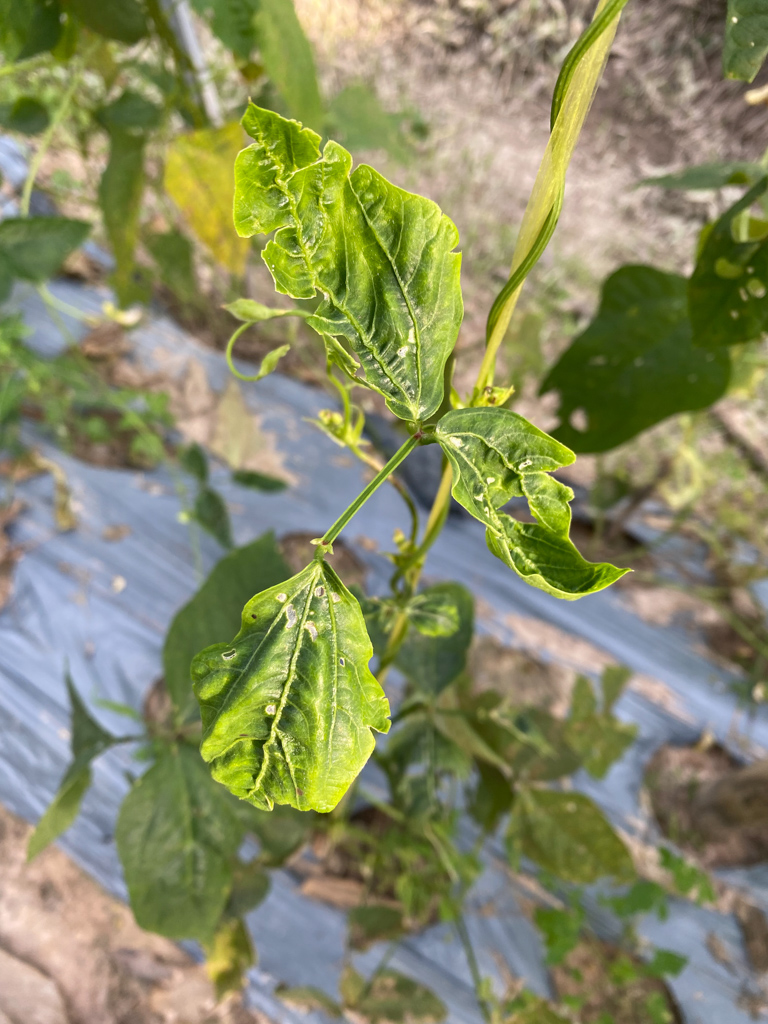Leaf Curl Disease: (231, 93, 465, 425), (187, 565, 390, 814), (437, 413, 641, 601)
